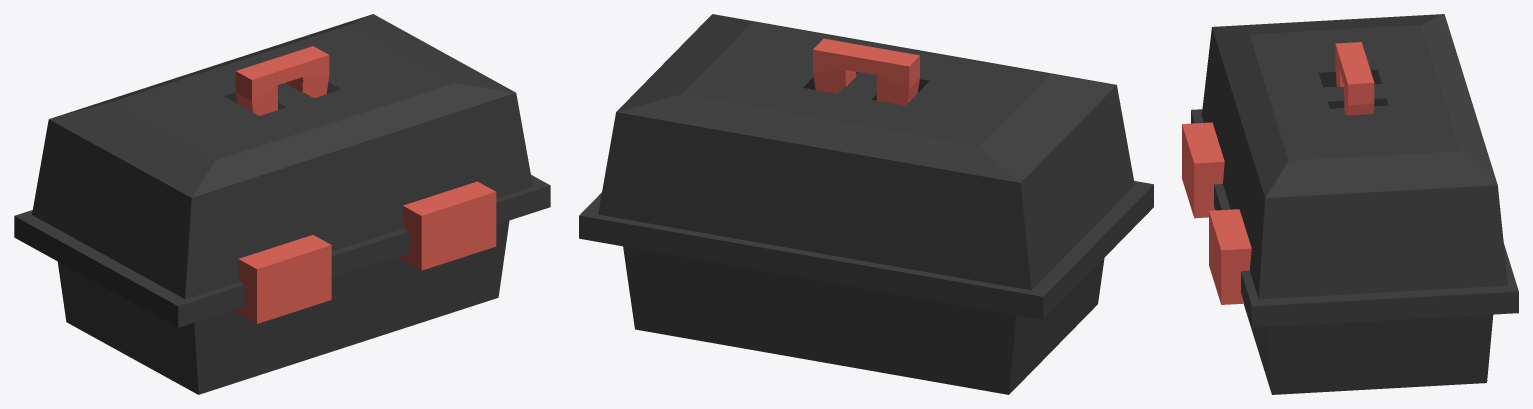
The model's file is toolKit.fbx.
3 renders of one model, left to right at view 1: azimuth 30°, elevation 25°; view 2: azimuth 150°, elevation 25°; view 3: azimuth 270°, elevation 25°, orthographic. The views are drawn at different scales.
Parts seen in each view (by area): view 1: Cube.002; view 2: Cube.002; view 3: Cube.002.
Boxes of the visible parts, box(x1,y1,x2,y2) form: Cube.002: box(14, 14, 550, 394); Cube.002: box(579, 14, 1153, 394); Cube.002: box(1182, 14, 1518, 394).
Bounding box in the file's own units: 108 × 58.84 × 72.83.
